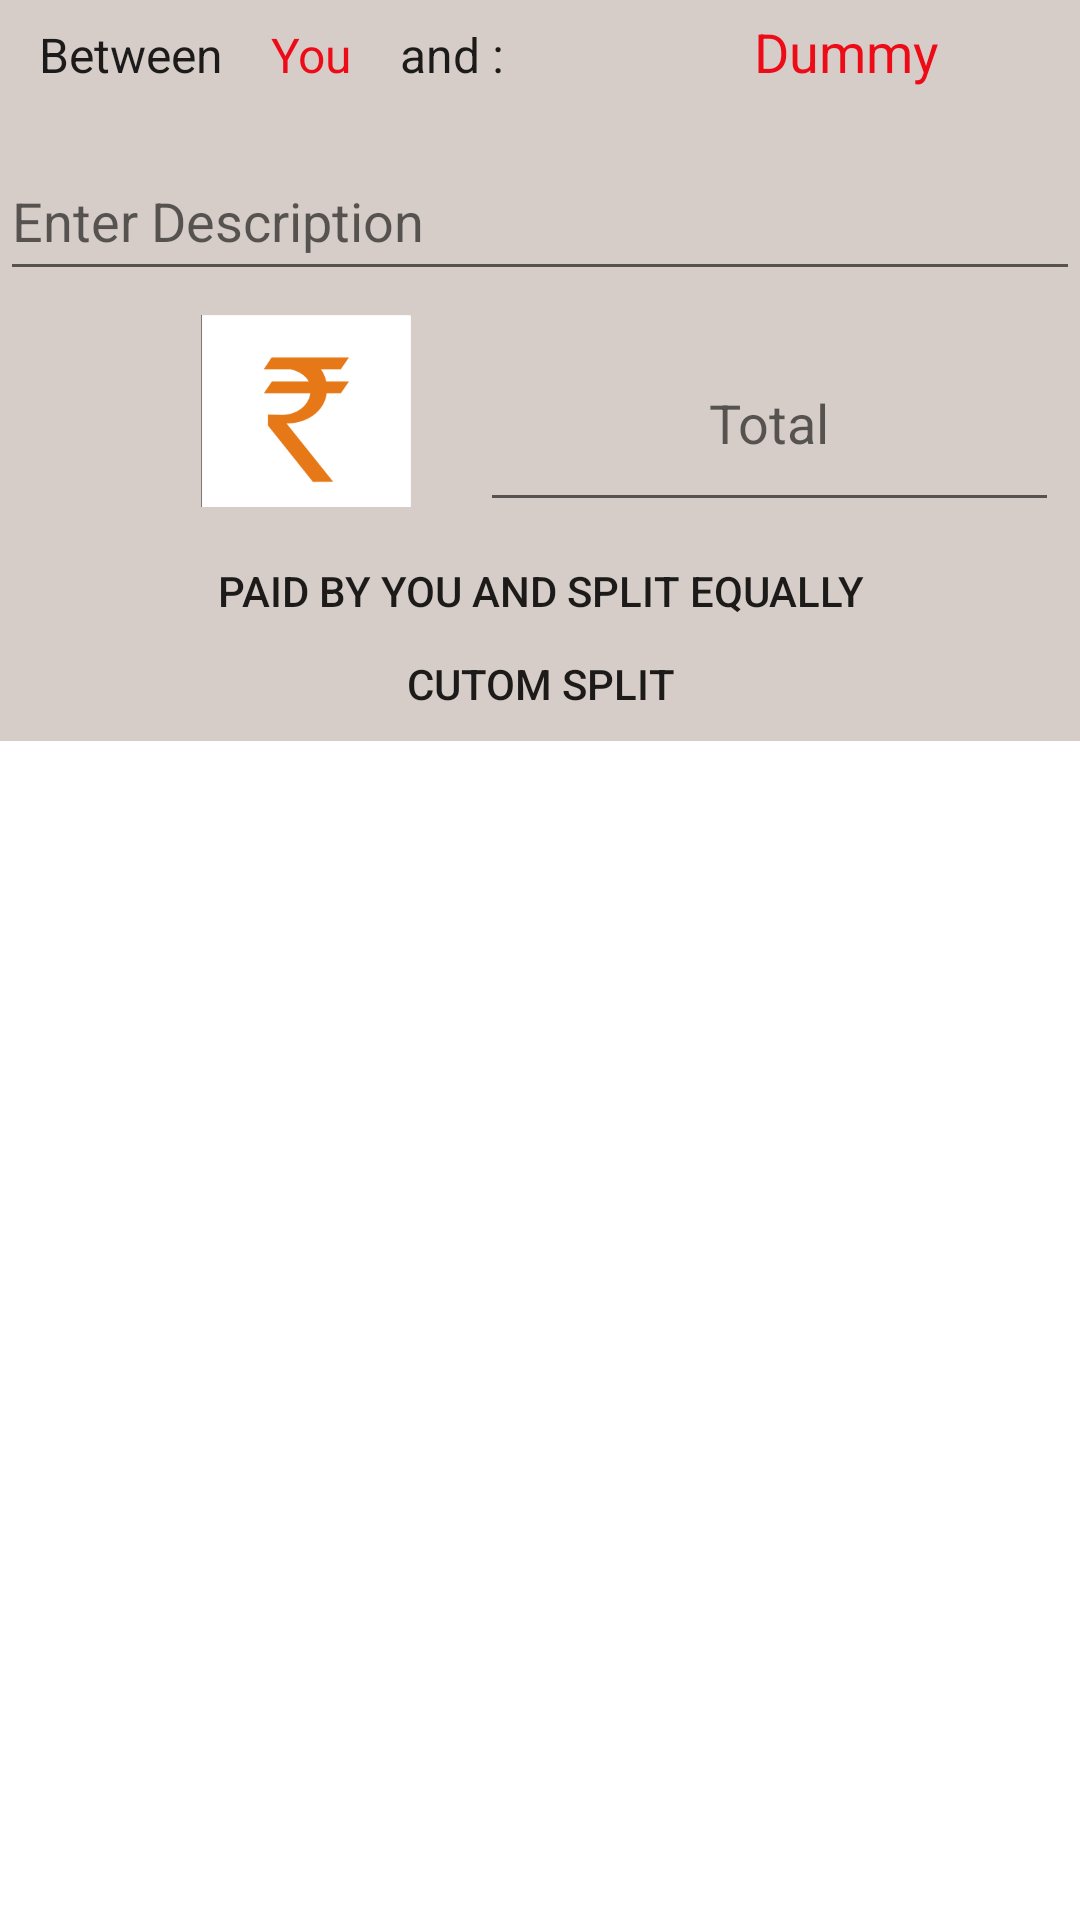

Screen size 1080x1920. Icon name, then its center in pixels as [x,y]:
rupeeimg: [306,411]
